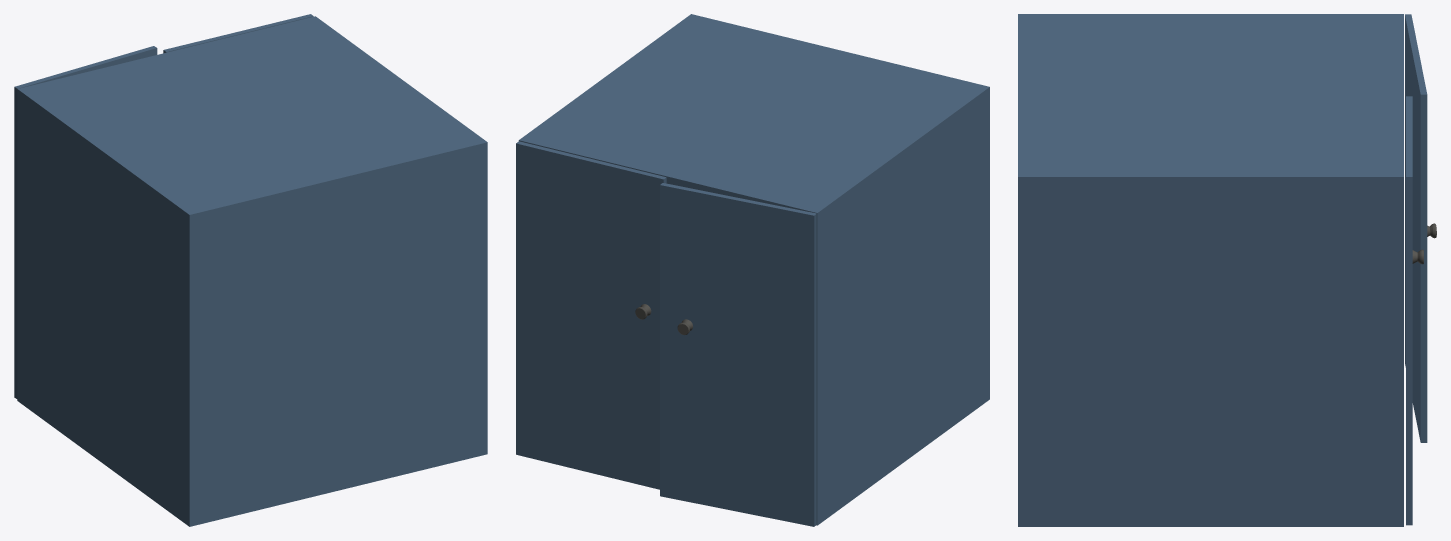
Rendered from big  tumba.fbx.
The picture shows the model from 3 angles, left to right: view 1: azimuth 30°, elevation 25°; view 2: azimuth 150°, elevation 25°; view 3: azimuth 270°, elevation 25°; orthographic projection. The views are drawn at different scales.
Visible parts, largest first — view 1: Cube.021, DOOR.009, DOOR.008; view 2: Cube.021, DOOR.009, DOOR.008; view 3: Cube.021, DOOR.009, DOOR.008.
Boxes of the visible parts, left/top/right/bottom form: Cube.021: left=17, top=16, right=487, bottom=526; DOOR.009: left=14, top=46, right=157, bottom=398; DOOR.008: left=163, top=14, right=313, bottom=53; Cube.021: left=518, top=14, right=989, bottom=525; DOOR.009: left=660, top=183, right=816, bottom=526; DOOR.008: left=516, top=141, right=666, bottom=489; Cube.021: left=1018, top=14, right=1403, bottom=526; DOOR.009: left=1405, top=14, right=1427, bottom=442; DOOR.008: left=1406, top=96, right=1412, bottom=525.
Bounding box in the file's own units: 3524 × 3524 × 3823.
